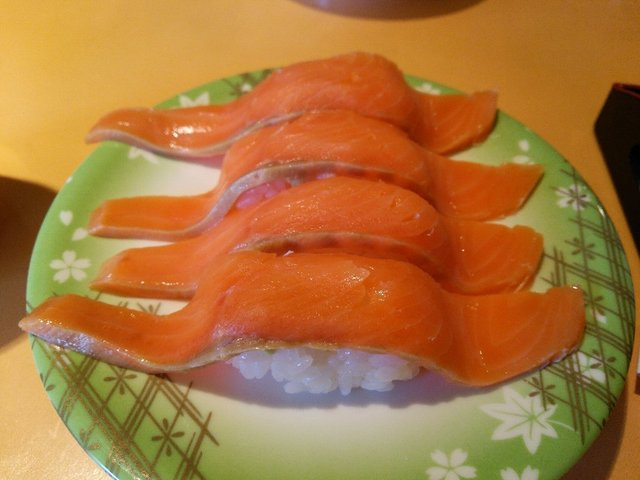salmon: (37, 254, 588, 412)
